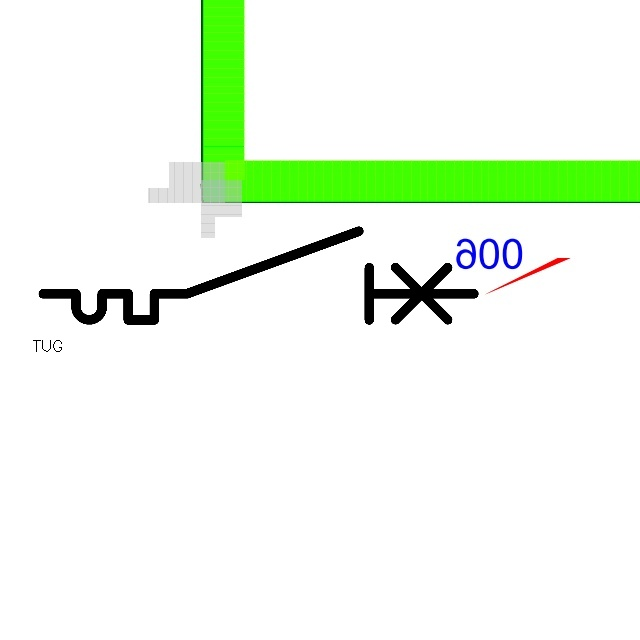interruptor_termomagnetico: (32, 220, 485, 331)
